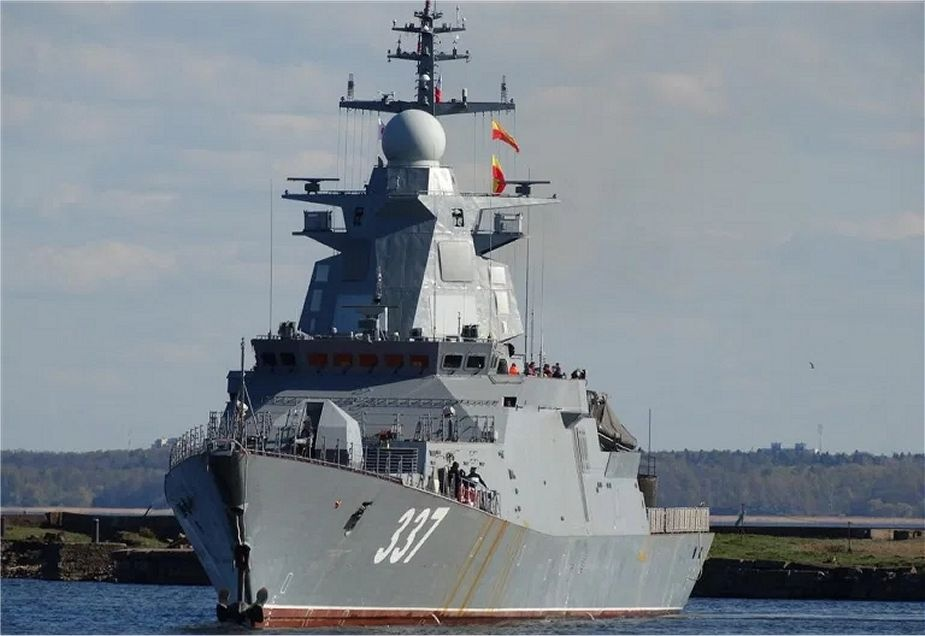warship: (158, 1, 721, 631)
